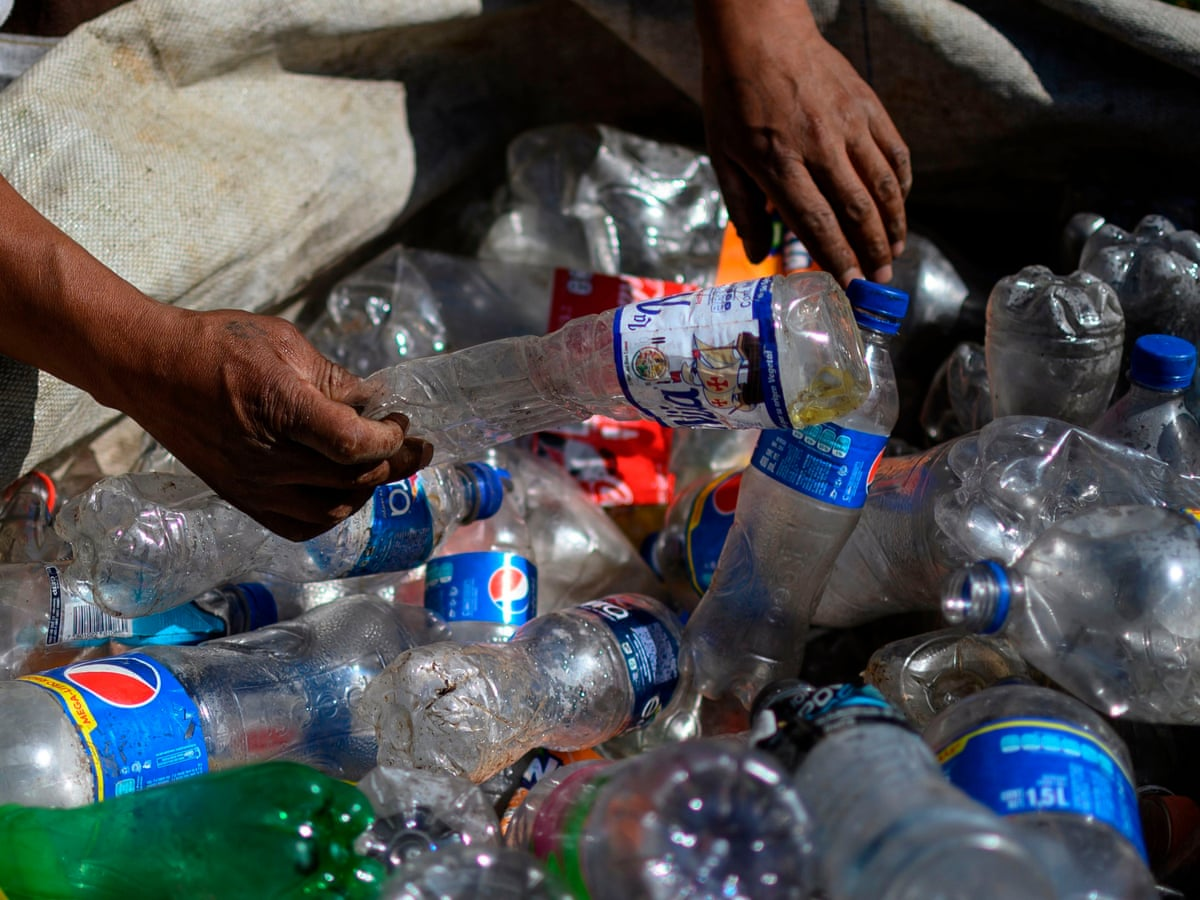plastic_bottle: (429, 273, 855, 446), (925, 492, 1200, 736), (363, 635, 612, 784), (982, 250, 1127, 420), (1123, 326, 1199, 459)
